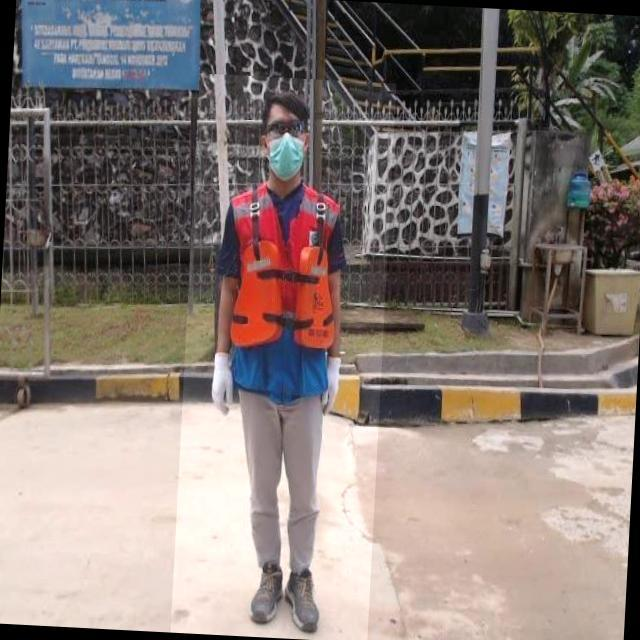Human: (171, 73, 398, 640)
Safety Boot: (285, 567, 327, 637), (251, 558, 289, 630)
Safety Vest: (221, 180, 343, 400)
